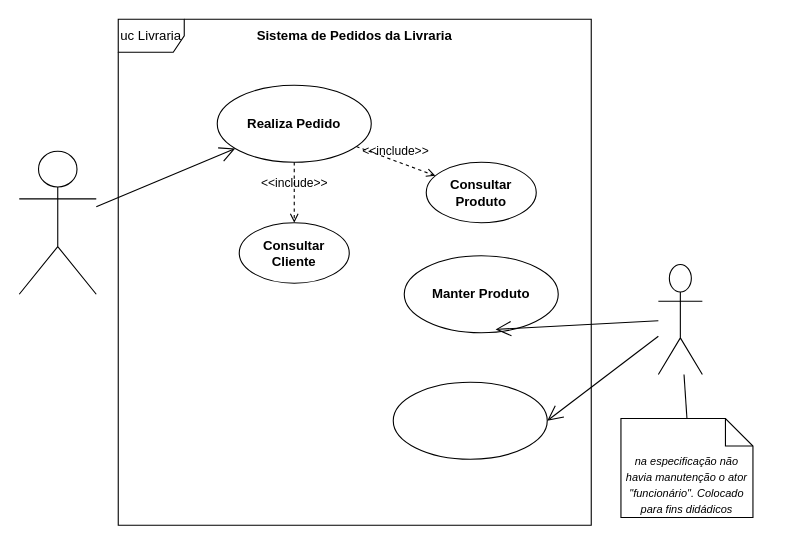
Some shapes in this 785 by 545 pixel diagram are drawn without their labels. The shapes that lost their labels are listed below. From the top down, each one's box as (x1, y1, x2, y2) in pixels, then its label:
(18, 150, 96, 294): Cliente
(657, 263, 702, 375): Administrador / funcionário
(392, 381, 547, 459): Manter Clientes
